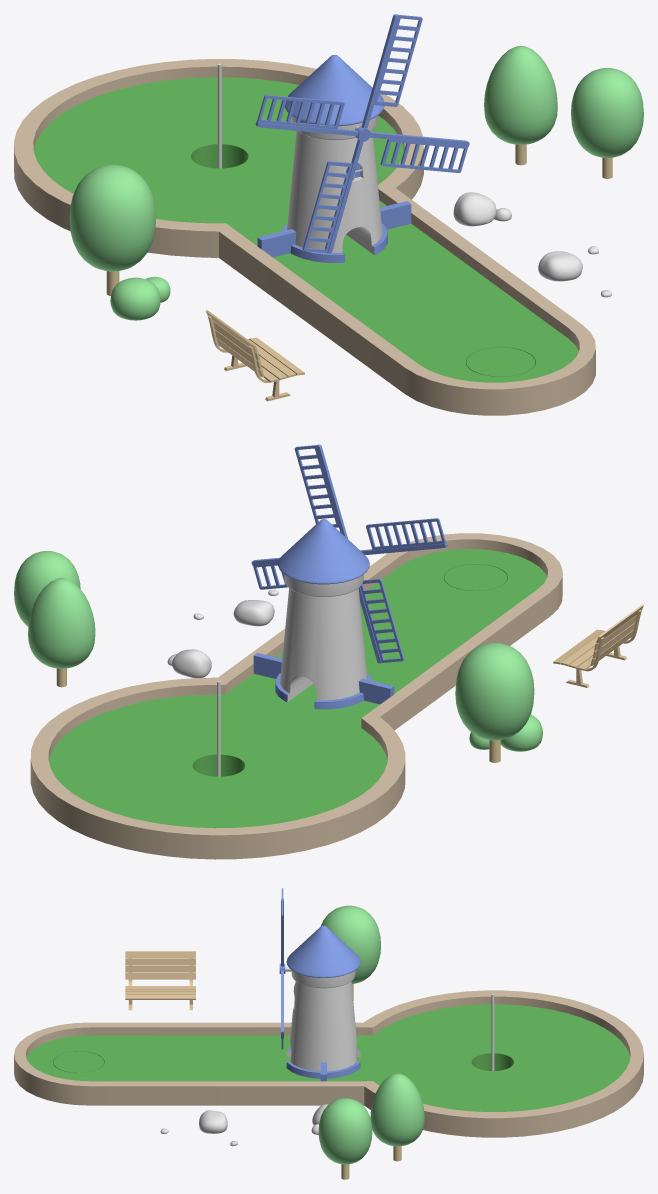
The model's file is Windmill02.glb.
The picture shows the model from 3 angles, top to bottom: view 1: azimuth 30°, elevation 25°; view 2: azimuth 150°, elevation 25°; view 3: azimuth 270°, elevation 25°; orthographic projection. The views are drawn at different scales.
Parts seen in each view (by area): view 1: Goal, Start, Tree, Windmill, Fan, Bench, Rock, Bush, Flip, Wall; view 2: Goal, Start, Tree, Windmill, Fan, Bench, Rock, Flip, Wall, Bush; view 3: Goal, Start, Windmill, Tree, Bench, Rock, Flip, Fan.
Boxes of the visible parts, bbox=[...] form: Goal: bbox=[14, 59, 423, 257]; Start: bbox=[219, 188, 595, 415]; Tree: bbox=[69, 46, 643, 295]; Windmill: bbox=[282, 55, 387, 262]; Fan: bbox=[255, 14, 469, 253]; Bench: bbox=[206, 310, 304, 401]; Rock: bbox=[453, 192, 611, 297]; Bush: bbox=[110, 276, 170, 320]; Flip: bbox=[466, 347, 535, 376]; Wall: bbox=[257, 201, 411, 257]; Goal: bbox=[30, 677, 405, 859]; Start: bbox=[218, 533, 562, 730]; Tree: bbox=[14, 551, 534, 762]; Windmill: bbox=[275, 519, 371, 709]; Fan: bbox=[251, 444, 447, 663]; Bench: bbox=[553, 604, 643, 687]; Rock: bbox=[167, 589, 278, 678]; Flip: bbox=[444, 564, 507, 590]; Wall: bbox=[253, 653, 394, 704]; Bush: bbox=[469, 714, 542, 751]; Goal: bbox=[349, 990, 643, 1137]; Start: bbox=[14, 1022, 366, 1105]; Windmill: bbox=[286, 925, 360, 1078]; Tree: bbox=[318, 905, 424, 1179]; Bench: bbox=[125, 951, 195, 1010]; Rock: bbox=[160, 1104, 328, 1146]; Flip: bbox=[53, 1051, 104, 1072]; Fan: bbox=[279, 888, 285, 1049].
Size of the model in its own units: 5.56 by 2.52 by 7.34.
